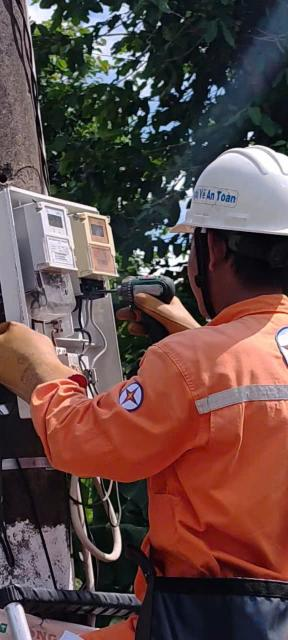gloves: (0, 289, 101, 428), (121, 257, 235, 357)
helmet: (166, 126, 288, 260)
